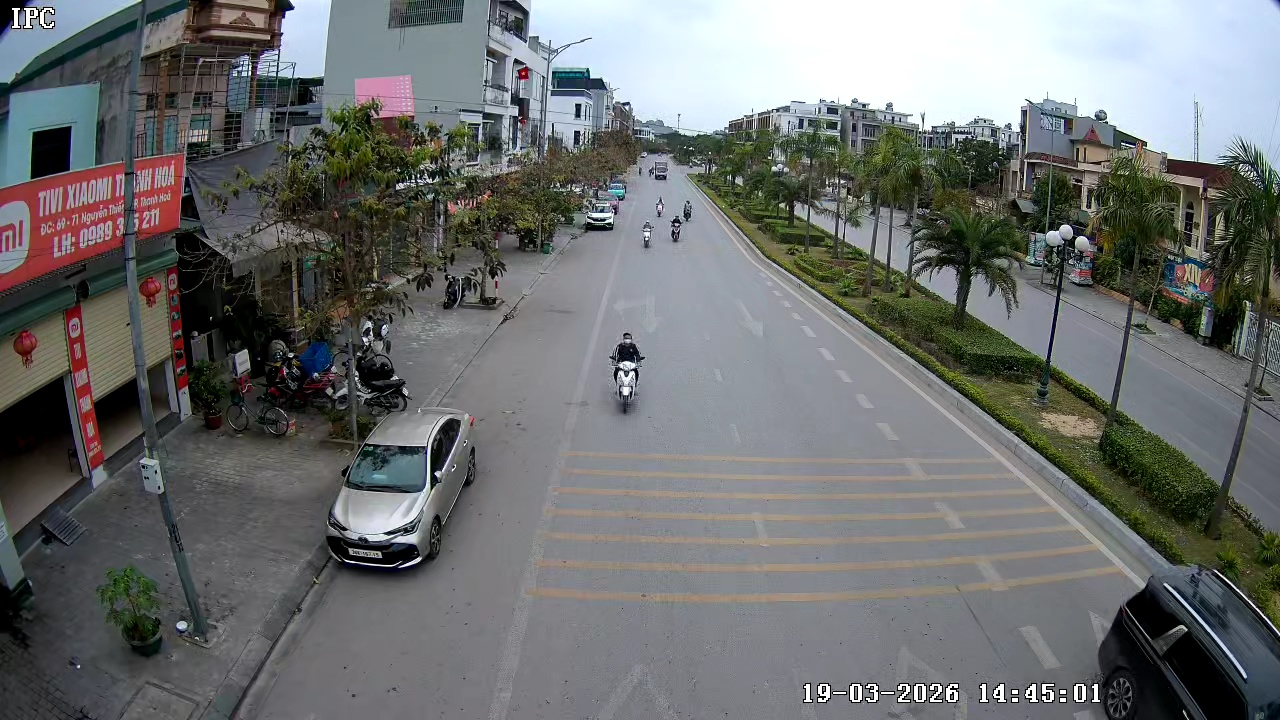car: (1089, 562, 1279, 719), (326, 406, 478, 572), (583, 197, 620, 231), (649, 153, 670, 182)
motorbike: (351, 334, 413, 413), (607, 329, 646, 415), (640, 217, 657, 248), (669, 214, 686, 243), (653, 195, 670, 219), (683, 199, 695, 218)
